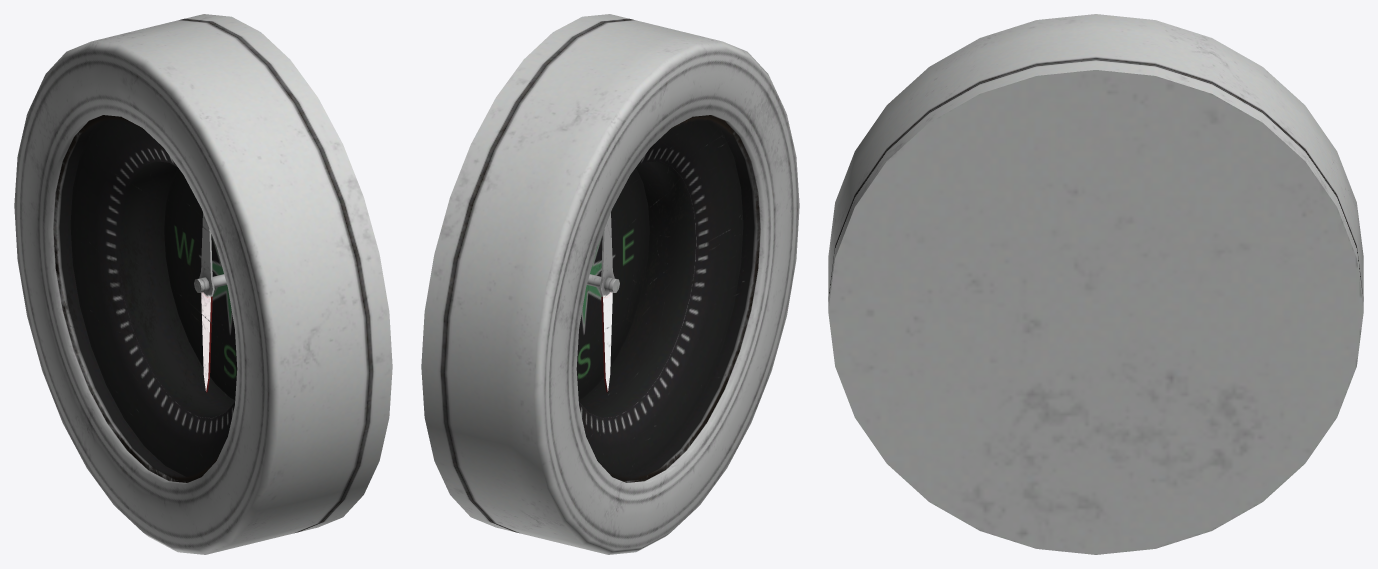
File: SM_Compass.glb
The picture shows the model from 3 angles, left to right: view 1: azimuth 30°, elevation 25°; view 2: azimuth 150°, elevation 25°; view 3: azimuth 270°, elevation 25°; orthographic projection.
Visible parts, largest first — view 1: SM_Compass; view 2: SM_Compass; view 3: SM_Compass.
Part boxes in pixels (x1,y1,x2,y2): SM_Compass: [14, 14, 392, 554]; SM_Compass: [421, 14, 799, 554]; SM_Compass: [828, 14, 1363, 554].
Size of the model in its own units: 0.0249 by 0.0958 by 0.0958.
Materials: 2 (2 with a texture image).
